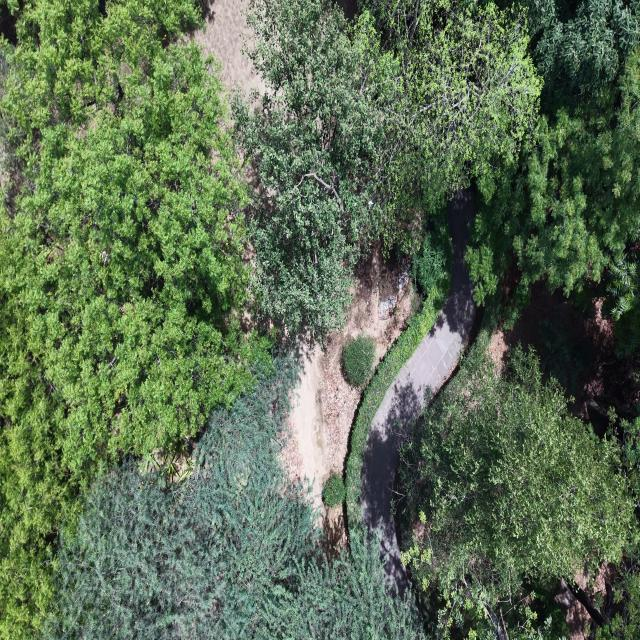DRY_AREA: (283, 246, 417, 543), (283, 246, 416, 543), (283, 248, 415, 506), (489, 284, 639, 435), (504, 283, 639, 436), (194, 0, 264, 97), (555, 579, 591, 639), (488, 331, 508, 374)
PATHWAYS: (361, 189, 476, 594)
VEGETATION_TREE: (0, 0, 639, 639), (0, 0, 268, 638), (45, 359, 420, 639), (235, 0, 541, 335), (399, 339, 638, 637), (467, 2, 639, 376), (467, 0, 639, 324), (235, 0, 396, 336), (467, 52, 639, 308), (363, 0, 542, 229), (345, 211, 452, 537), (345, 249, 450, 540), (523, 0, 639, 109), (576, 555, 639, 639), (538, 319, 592, 393), (607, 242, 639, 354), (411, 226, 450, 297), (342, 334, 376, 386), (619, 418, 639, 506), (322, 472, 345, 507)
